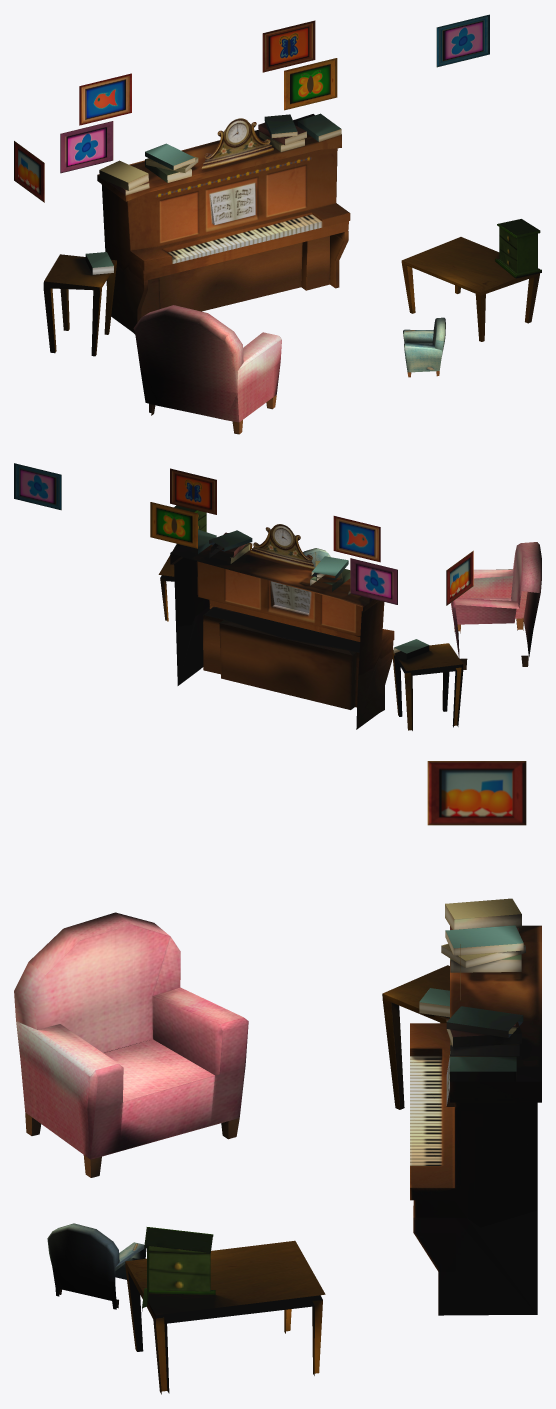
File: lounge_objects.dae
The picture shows the model from 3 angles, top to bottom: view 1: azimuth 30°, elevation 25°; view 2: azimuth 150°, elevation 25°; view 3: azimuth 270°, elevation 25°; orthographic projection. The views are drawn at different scales.
Visible parts, largest first — view 1: Piano, Chair, RadioTable, Table1, BlueFlowerFrame, PurpleFlowerFrame, GreenButterflyFrame, OrangeButterflyFrame, FishFrame, ChestOfDrawers1, Clock1, Chair1 (+6 smaller); view 2: Piano, Chair, Table1, BlueFlowerFrame, GreenButterflyFrame, PurpleFlowerFrame, FishFrame, OrangeButterflyFrame, Clock1, RedEggsFrame, BookPile01, BookPile03 (+2 smaller); view 3: Chair, Piano, RadioTable, RedEggsFrame, Chair1, ChestOfDrawers1, BookPile01, BookPile03, Table1, BookPile02, Book, TableBook.
Part boxes in pixels (box(x1,y1,x2,y2)): Piano: box(97, 114, 350, 334); Chair: box(133, 305, 281, 434); RadioTable: box(401, 237, 539, 341); Table1: box(43, 254, 116, 356); BlueFlowerFrame: box(436, 14, 489, 67); PurpleFlowerFrame: box(60, 121, 113, 173); GreenButterflyFrame: box(284, 58, 337, 110); OrangeButterflyFrame: box(262, 20, 315, 72); FishFrame: box(79, 73, 131, 125); ChestOfDrawers1: box(495, 219, 541, 278); Clock1: box(201, 118, 273, 170); Chair1: box(403, 317, 445, 377); Piano: box(170, 545, 394, 729); Chair: box(450, 542, 541, 669); Table1: box(392, 643, 463, 730); BlueFlowerFrame: box(14, 463, 61, 510); GreenButterflyFrame: box(150, 502, 197, 548); PurpleFlowerFrame: box(350, 558, 397, 604); FishFrame: box(333, 516, 380, 562); OrangeButterflyFrame: box(170, 468, 216, 514); Clock1: box(250, 524, 314, 569); RedEggsFrame: box(446, 550, 473, 605); BookPile01: box(310, 556, 350, 591); BookPile03: box(209, 530, 252, 563); Chair: box(14, 912, 248, 1177); Piano: box(410, 925, 541, 1315); RadioTable: box(125, 1240, 325, 1394); RedEggsFrame: box(427, 761, 526, 825); Chair1: box(47, 1223, 146, 1309); ChestOfDrawers1: box(142, 1227, 215, 1311); BookPile01: box(441, 925, 525, 972); BookPile03: box(446, 1006, 523, 1056); Table1: box(382, 965, 449, 1109); BookPile02: box(445, 898, 521, 931); Book: box(449, 1056, 516, 1081); TableBook: box(419, 988, 449, 1017).
Size of the model in its own units: 26.86 by 12.96 by 15.92.
18 materials, 18 textured.
